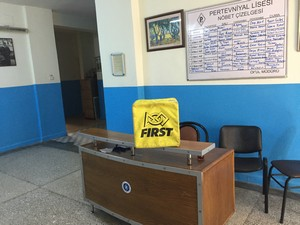cube: (132, 99, 182, 149)
